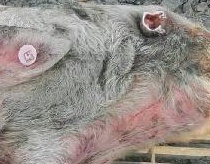text: (7, 34, 53, 70)
